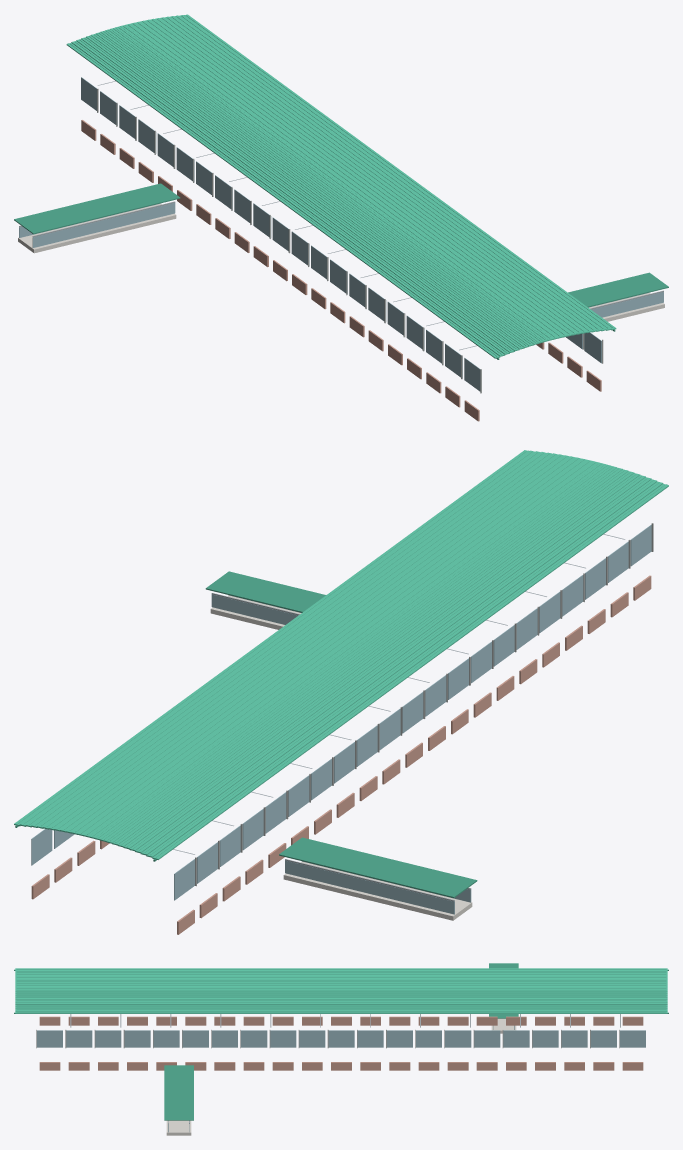
Rendered from station-3-photo-reference.glb.
The picture shows the model from 3 angles, top to bottom: view 1: azimuth 30°, elevation 25°; view 2: azimuth 150°, elevation 25°; view 3: azimuth 270°, elevation 25°; orthographic projection. The views are drawn at different scales.
Parts seen in each view (by area): view 1: Station 3 photo-informed architecture and surroundings; view 2: Station 3 photo-informed architecture and surroundings; view 3: Station 3 photo-informed architecture and surroundings.
Part boxes in pixels (x1,y1,x2,y2): Station 3 photo-informed architecture and surroundings: (14,14,668,421); Station 3 photo-informed architecture and surroundings: (14,450,668,934); Station 3 photo-informed architecture and surroundings: (14,963,668,1135).
Bounding box in the file's own units: 89 × 18.91 × 157.
